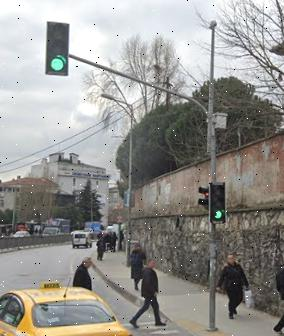greenlight: (48, 21, 68, 73), (211, 183, 225, 220)
